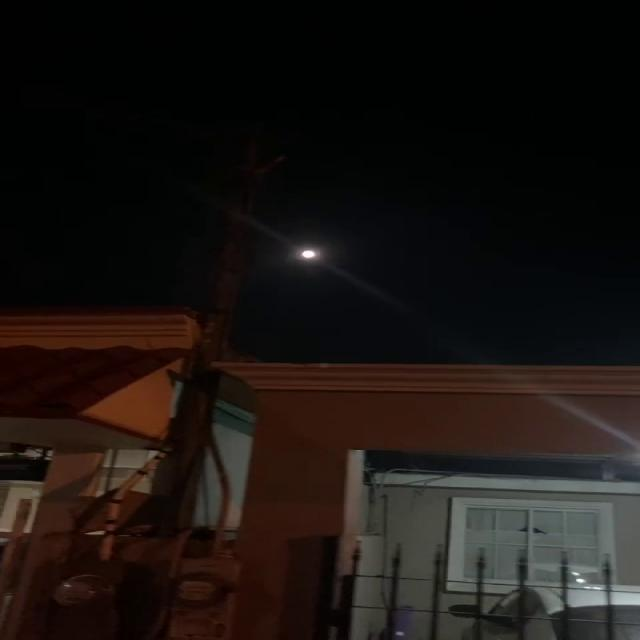moon: (298, 244, 325, 269)
